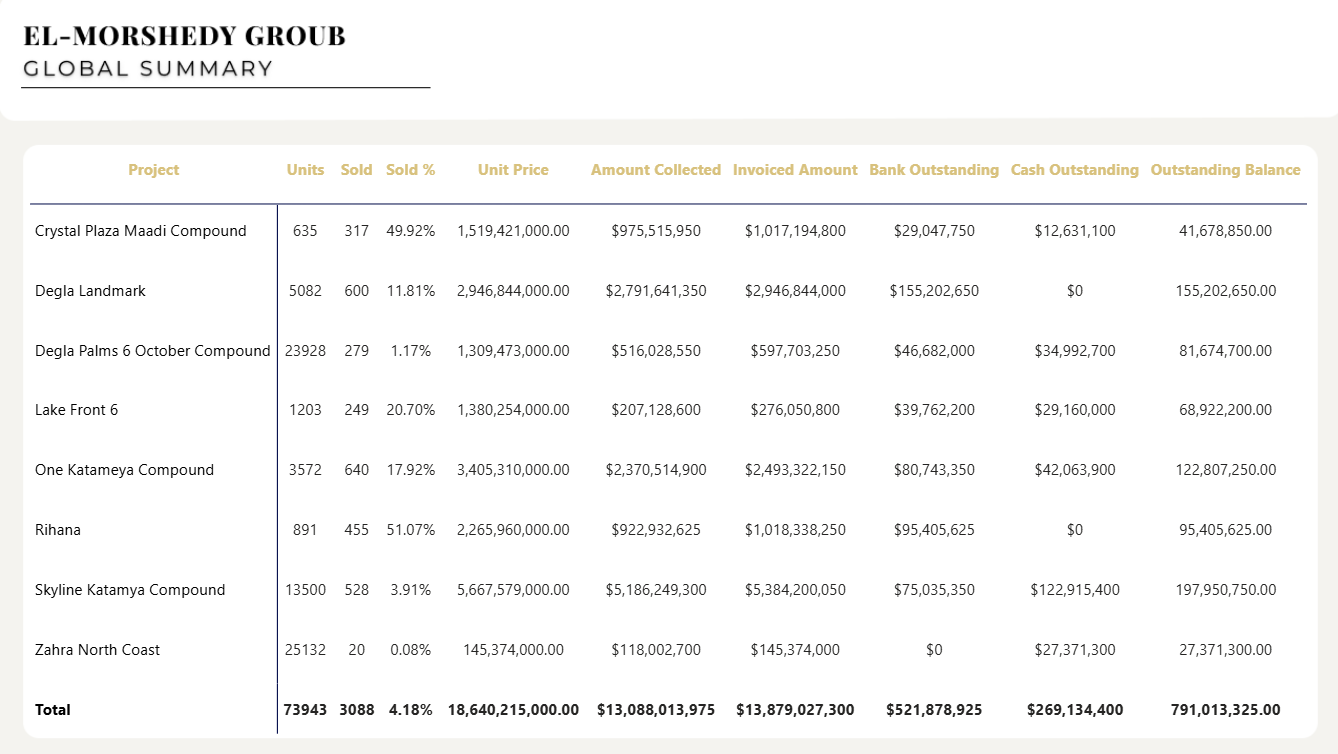

The dashboard page shown, as its layout file describes it:
{"tool":"powerbi","page":{"name":"Global Summary","canvas":[1280,720],"ordinal":1},"visuals":[{"type":"pivotTable","fields":{"Rows":["Projects.Project"],"Values":["Projects.Global Units","Projects.Global Sold","Projects.Global Sold %","Projects.Global Unit Price","Projects.Global Amount Collected","Projects.Global Invoiced Amount","Projects.Global Bank Outstanding","Projects.Global Cash Outstanding","Projects.Global Outstanding Balance"]},"box":[24.7,131.6,1255.3,589],"z":0}]}

Visuals, with their boxes in screenshot pixels (x1, y1, x2, y2), scaled from the page's 1280x720 canvas onto the 1338x754 screenshot:
pivotTable - Projects.Project x Projects.Global Units: 26,138,1337,753
